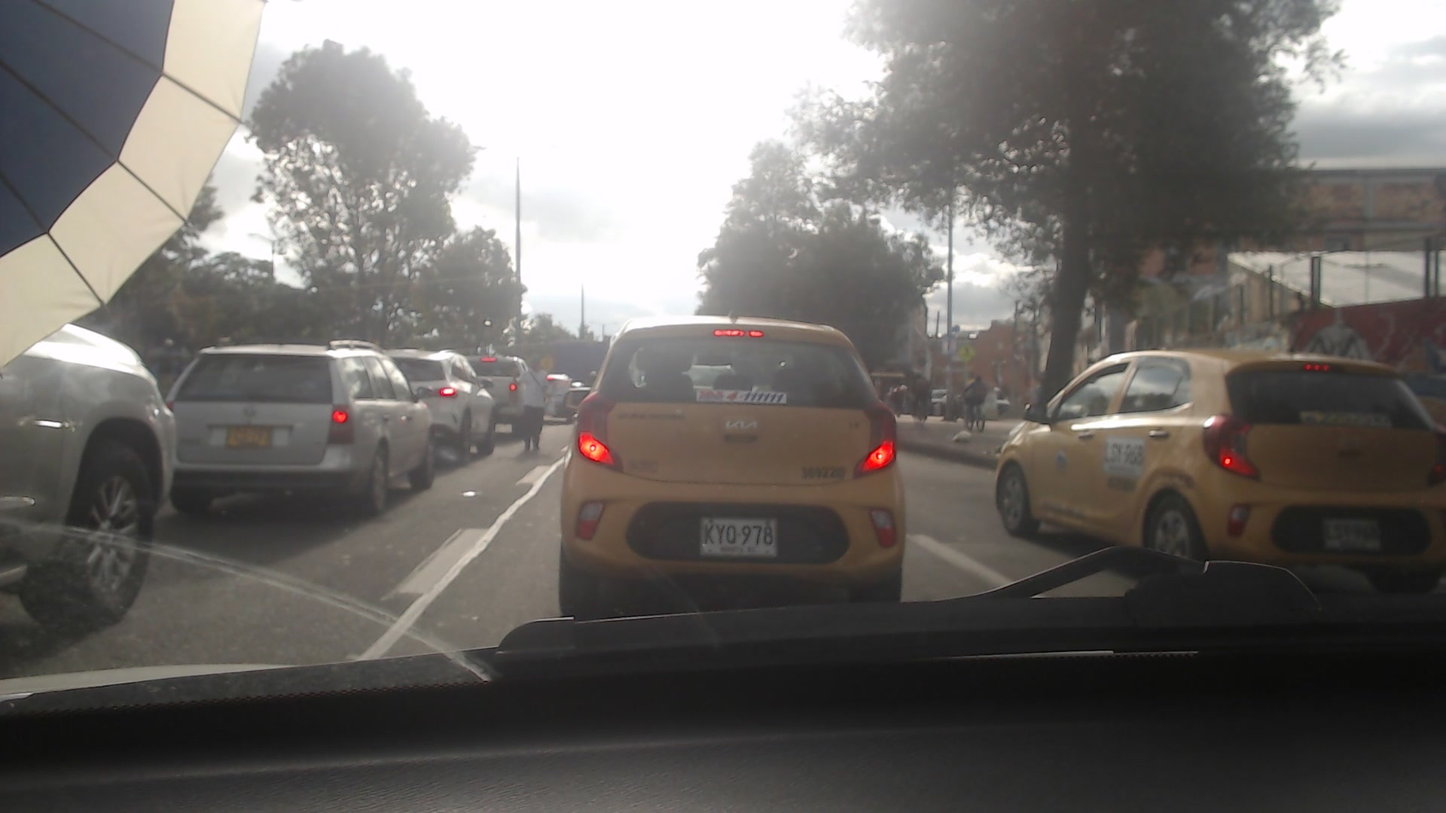car: (999, 350, 1446, 590), (560, 317, 907, 603), (165, 342, 440, 502), (378, 343, 499, 458), (471, 351, 529, 425)
person: (513, 355, 547, 458)
